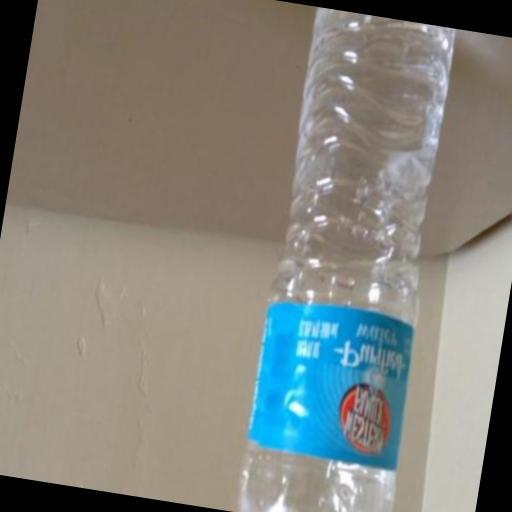Coca: (226, 7, 471, 512)
